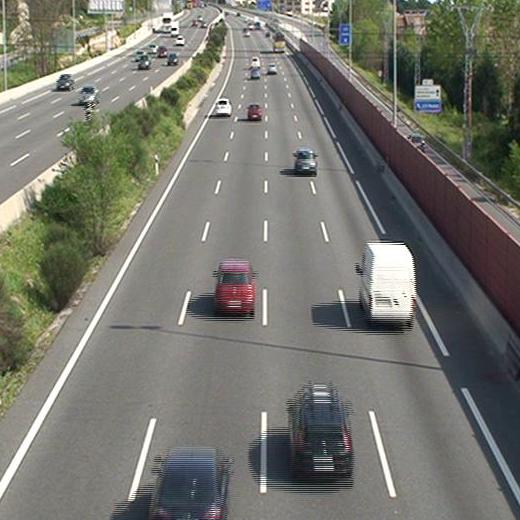car: (149, 449, 229, 520), (289, 388, 352, 478), (214, 261, 255, 312), (294, 148, 316, 172), (214, 98, 233, 115), (247, 104, 263, 119), (267, 63, 279, 74), (250, 68, 260, 79), (250, 56, 260, 67)
van: (360, 242, 415, 325)
